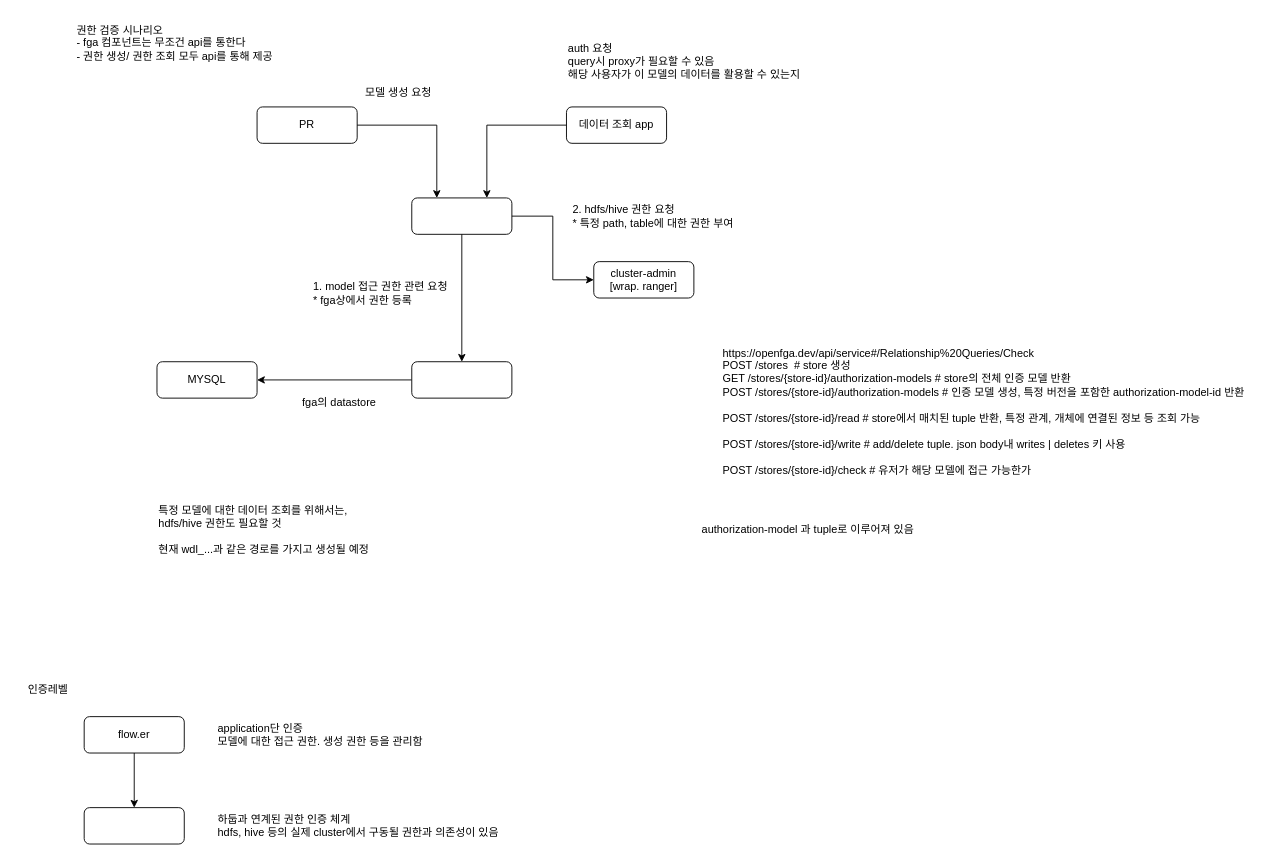
The diagram is 1273 pixels wide and 860 high, and some of its shapes have lost their labels. Each missing label, with the centre of its shape:
api [k8s]: the point at 461,215
fga [k8s]: the point at 461,379
ranger: the point at 133,825
